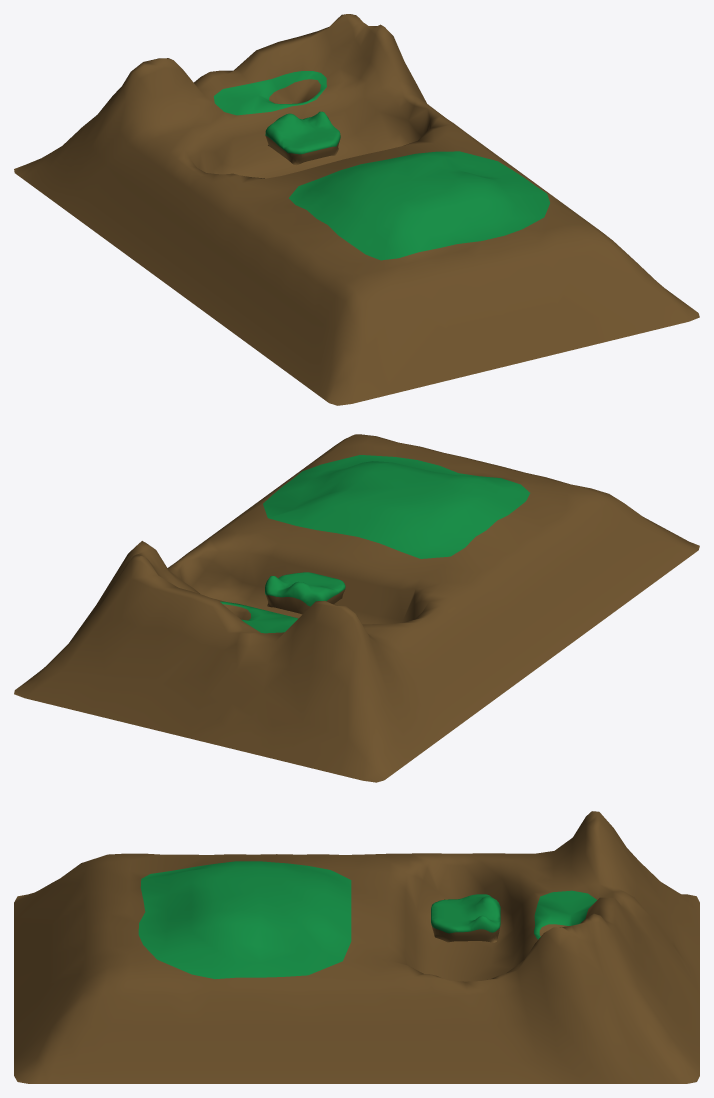
Rendered from hole005waterisland.fbx.
The picture shows the model from 3 angles, top to bottom: view 1: azimuth 30°, elevation 25°; view 2: azimuth 150°, elevation 25°; view 3: azimuth 270°, elevation 25°; orthographic projection. The views are drawn at different scales.
Visible parts, largest first — view 1: nurbsToPoly2, nurbsToPoly1; view 2: nurbsToPoly2, nurbsToPoly1; view 3: nurbsToPoly2, nurbsToPoly1.
Part boxes in pixels (left/top/right/bottom): nurbsToPoly2: left=14, top=14, right=699, bottom=405; nurbsToPoly1: left=265, top=111, right=340, bottom=165; nurbsToPoly2: left=14, top=434, right=699, bottom=782; nurbsToPoly1: left=265, top=572, right=345, bottom=614; nurbsToPoly2: left=14, top=811, right=699, bottom=1083; nurbsToPoly1: left=431, top=894, right=500, bottom=942.
Bounding box in the file's own units: 381 × 120 × 583.
